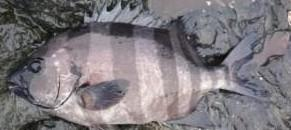fish: (7, 0, 269, 125)
